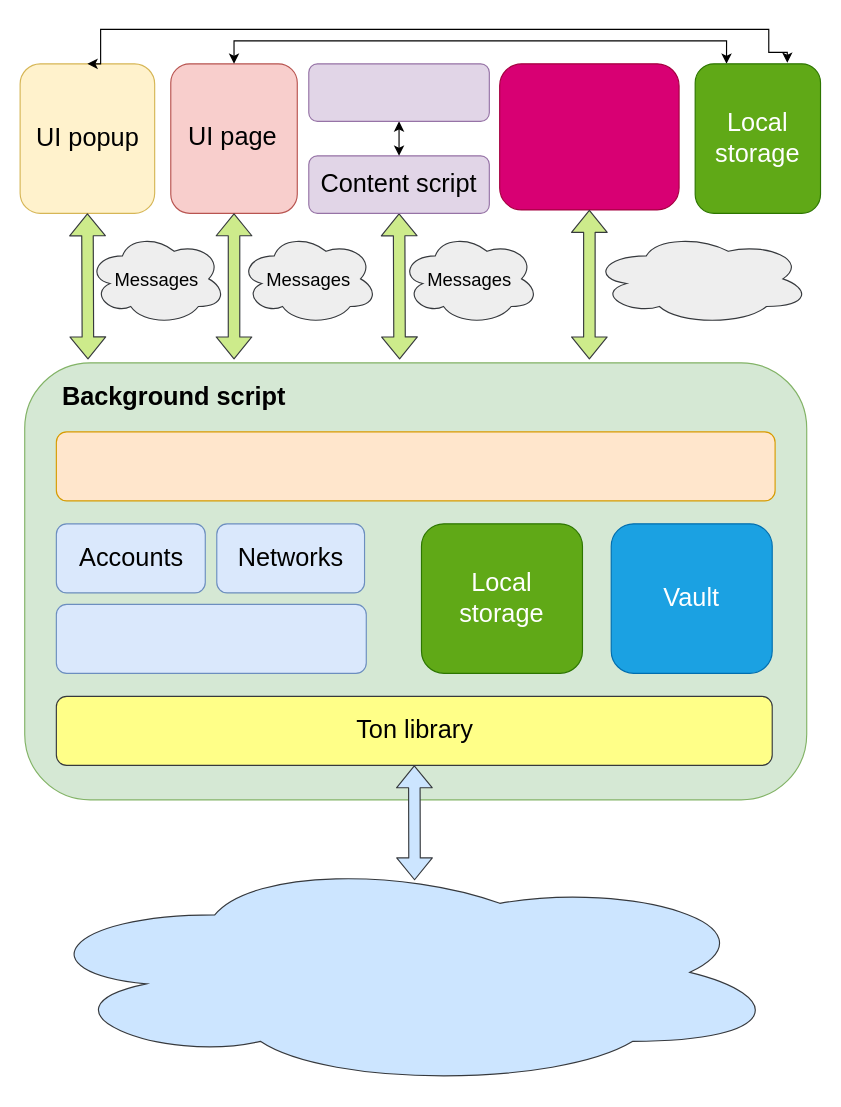
Image size: 841x1107. Some labels were removed from this diagram. The shapes that lost their labels are listed below. From the top down, each one's centre as x and y in pixels, then its label:
At (x=398, y=92): "Web3 injector".
At (x=589, y=136): "External Applications".
At (x=700, y=278): "Dynamic QR codes and WebRTC".
At (x=415, y=466): "Main controller".
At (x=210, y=638): "SDK".
At (x=404, y=971): "TON blockchain".
